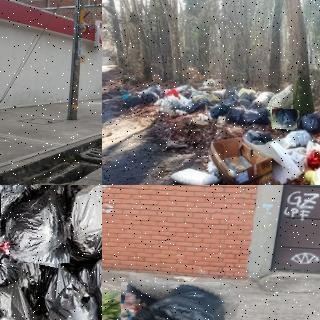Garbage: (0, 185, 74, 265), (117, 277, 237, 320), (38, 261, 102, 320), (66, 185, 102, 249), (0, 223, 23, 286), (0, 185, 40, 213), (271, 108, 298, 130), (241, 107, 270, 125), (297, 111, 320, 132), (137, 85, 163, 100), (222, 105, 243, 123)
